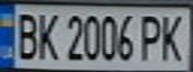0: (81, 11, 103, 62), (100, 11, 121, 62)
2: (60, 10, 84, 62)
6: (115, 11, 139, 62)
B: (9, 9, 42, 61)
K: (157, 11, 190, 63), (33, 9, 60, 62)
P: (136, 11, 166, 62)
